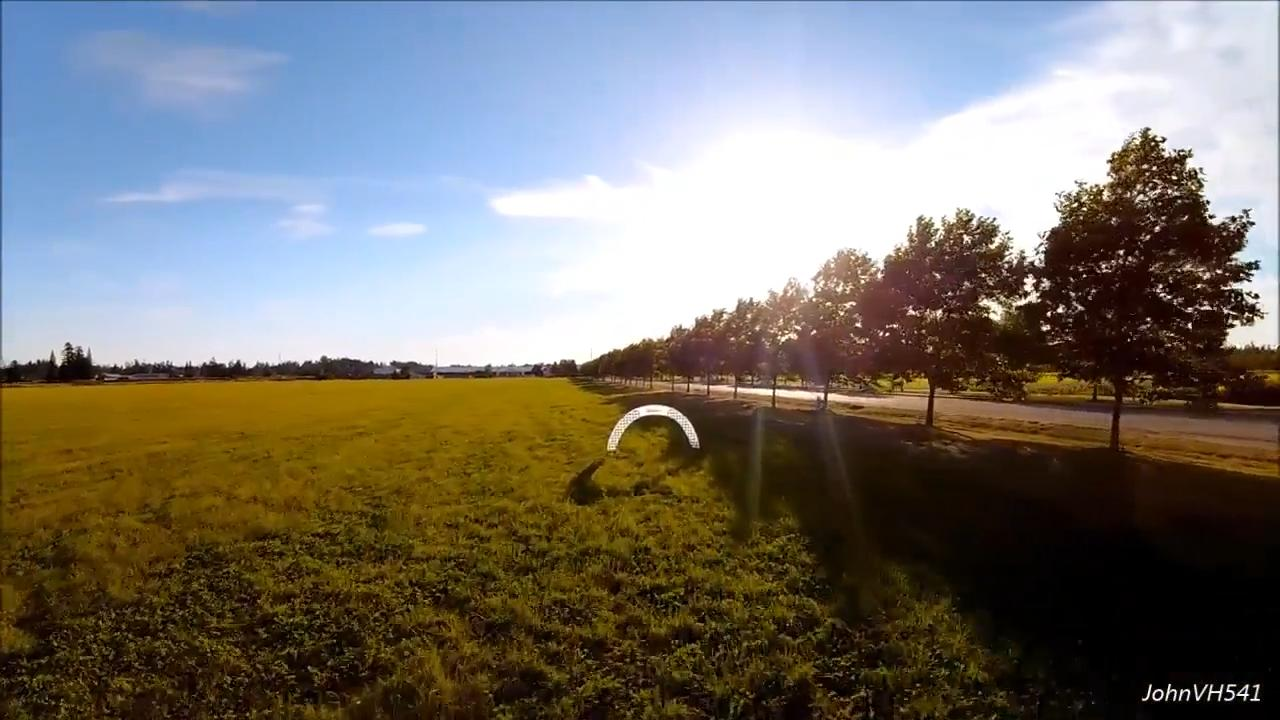gate: (604, 404, 704, 453)
